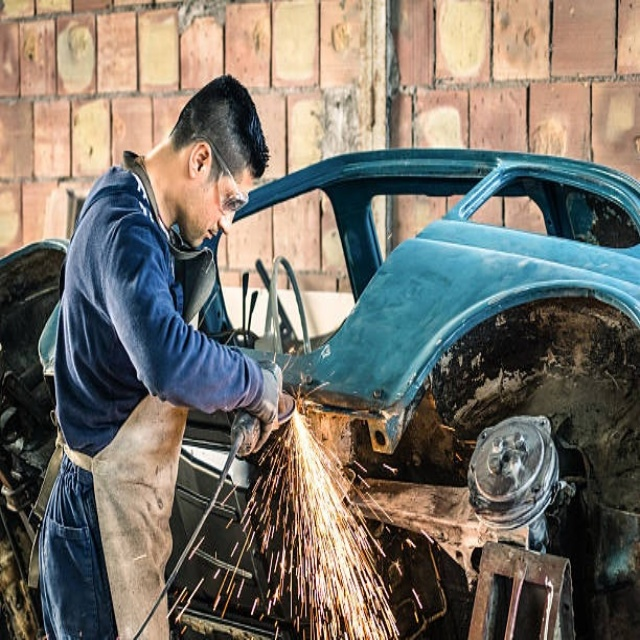Gafas: (201, 139, 248, 216)
Guantes: (228, 358, 288, 453)
Sin_mascara: (193, 215, 222, 252)
